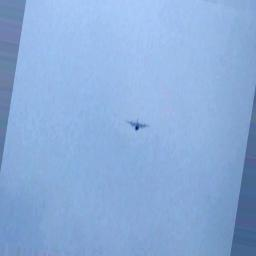Airplane: (126, 119, 150, 131)
